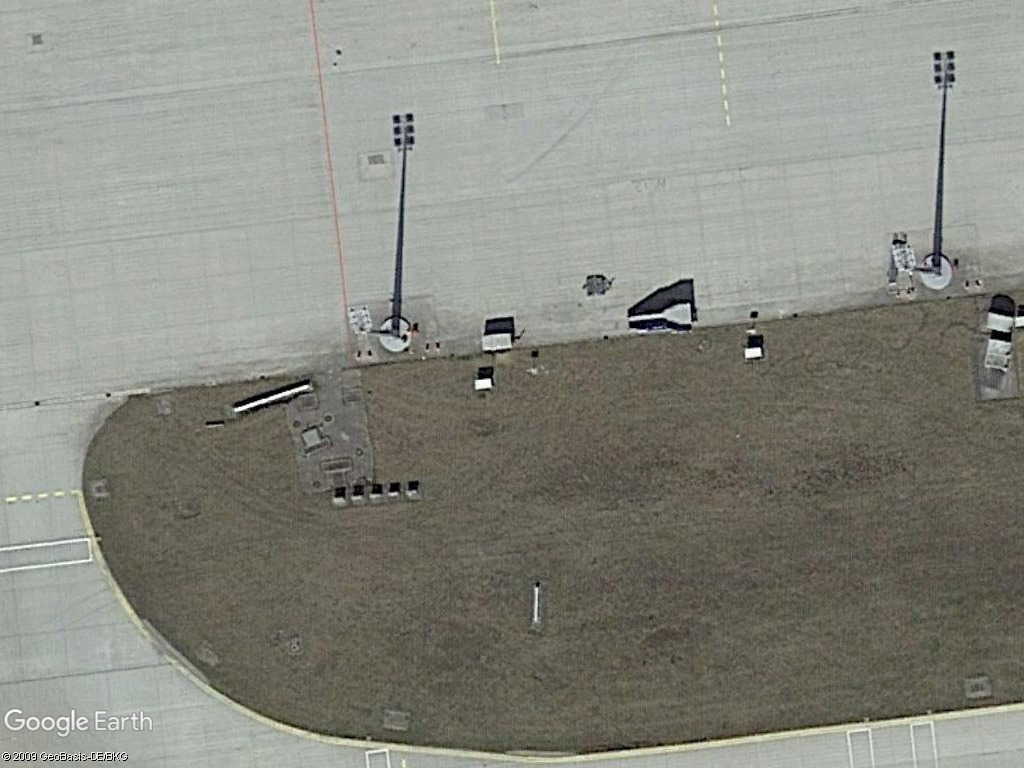stairtruck: (623, 299, 697, 342)
